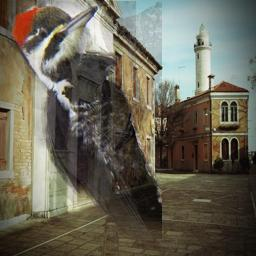Woodpecker: (5, 1, 162, 239)
